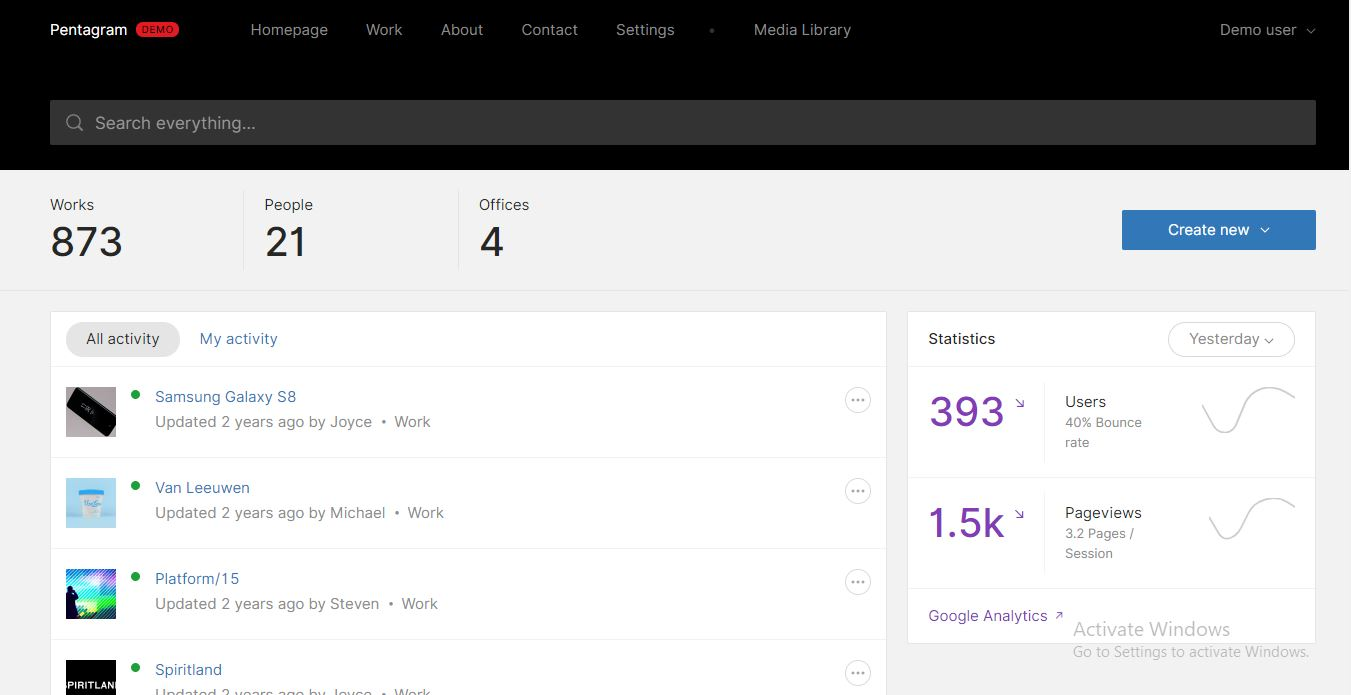Button: (1116, 206, 1321, 252)
Menu Bar: (241, 0, 871, 47)
Side Bar: (905, 312, 1315, 654)
Text Field: (48, 94, 1323, 148)
